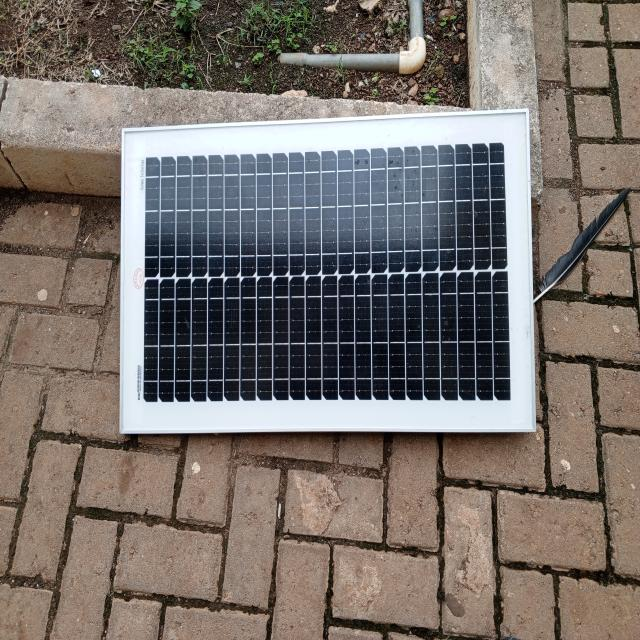Clean: (127, 139, 529, 430)
